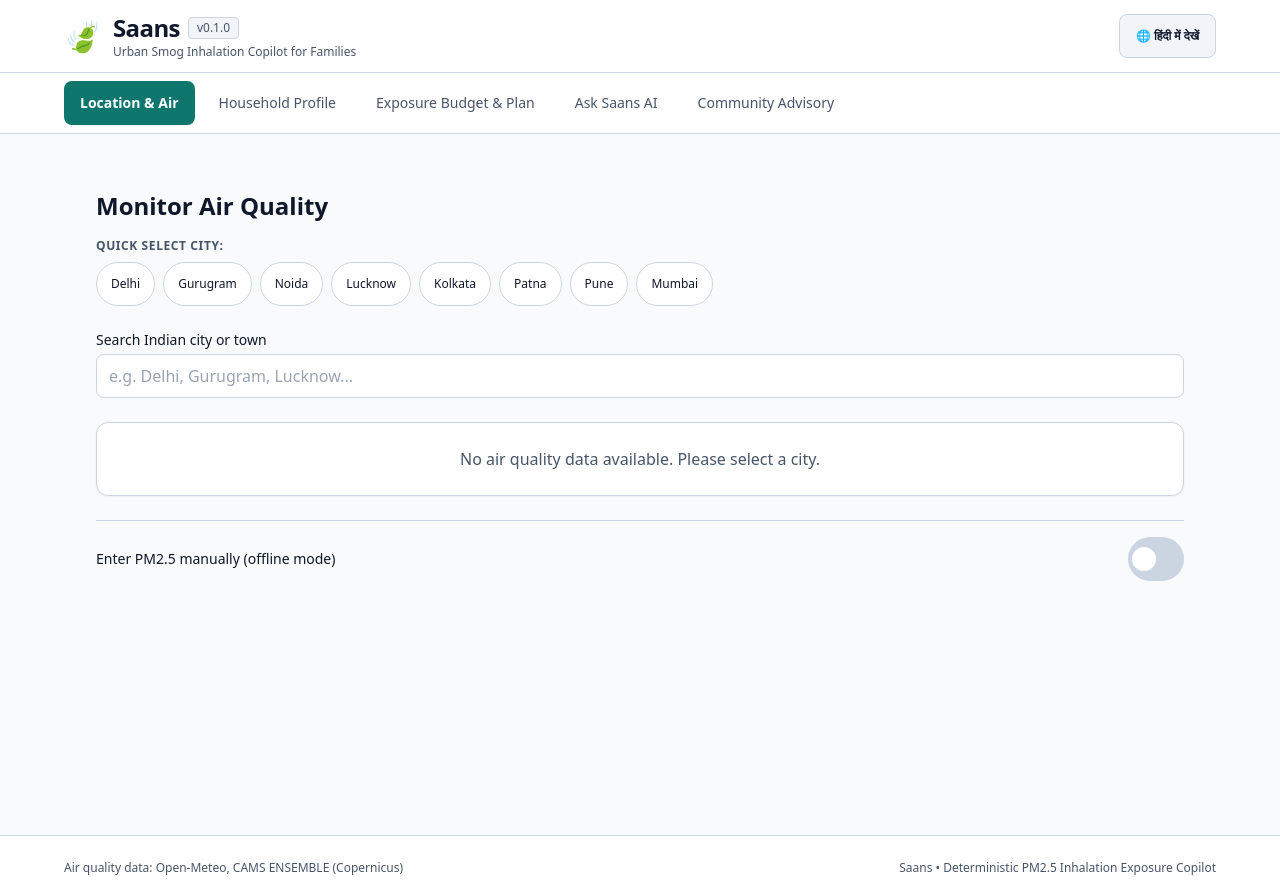
Test: Accessible Application Shell › navigates across feature panels via accessible tab controls
Click the tab "Household Profile" at (277, 103), box x1=202 y1=81 x2=352 y2=125
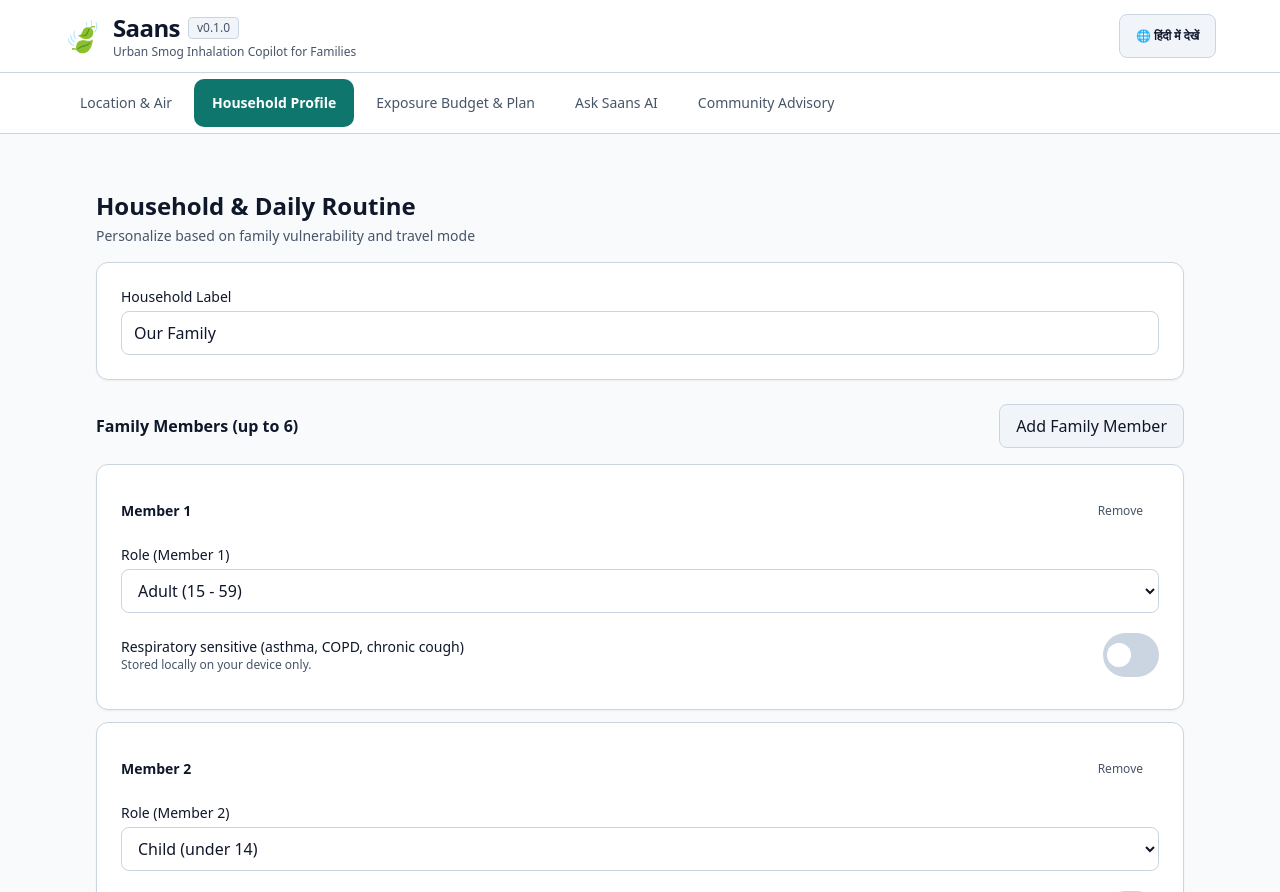
Expected: the tab "Household Profile" is selected, x1=196 y1=81 x2=352 y2=125
Expected: the tab "Location & Air" is not selected, x1=64 y1=81 x2=188 y2=125
Click the tab "Exposure Budget & Plan" at (456, 103), box x1=360 y1=81 x2=551 y2=125
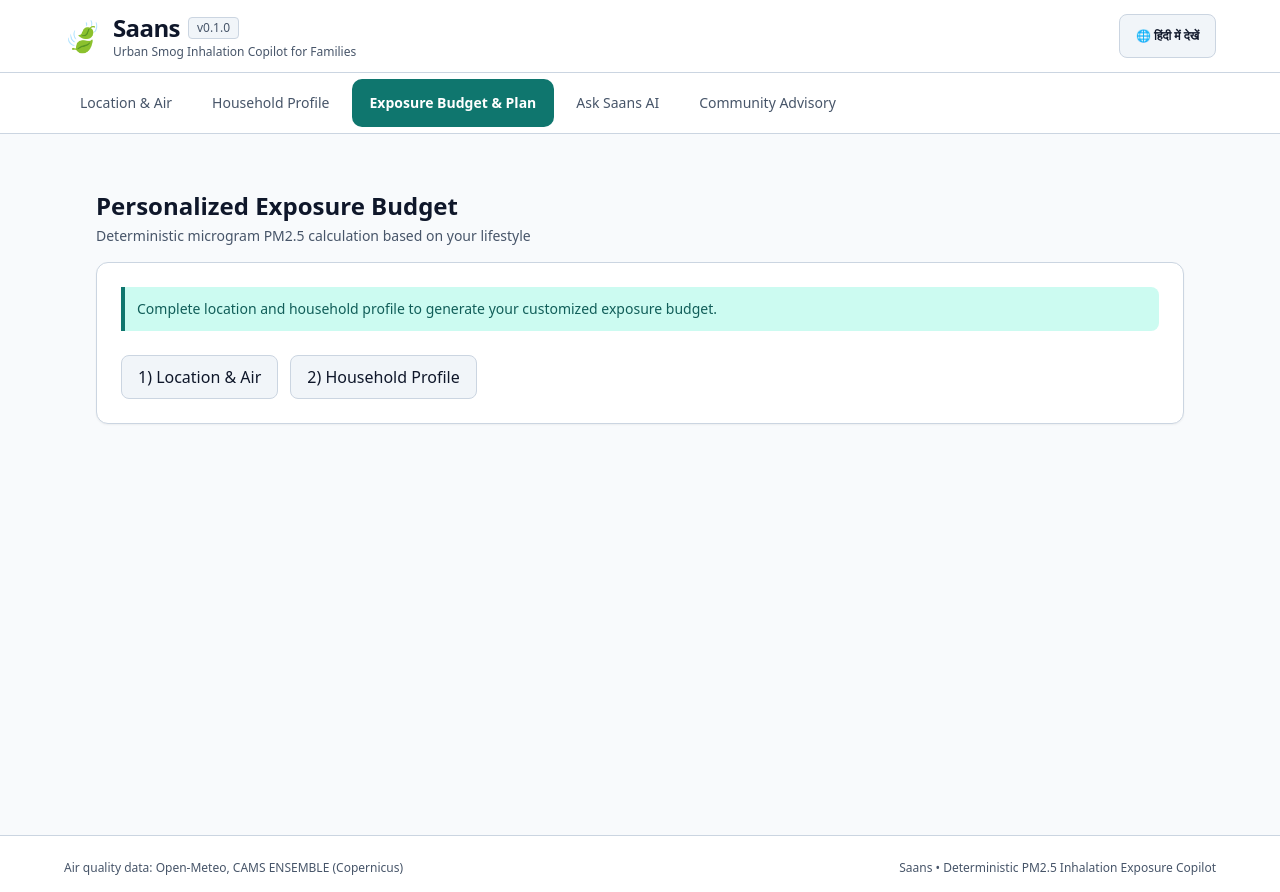
Expected: the tab "Exposure Budget & Plan" is selected, x1=354 y1=81 x2=552 y2=125
